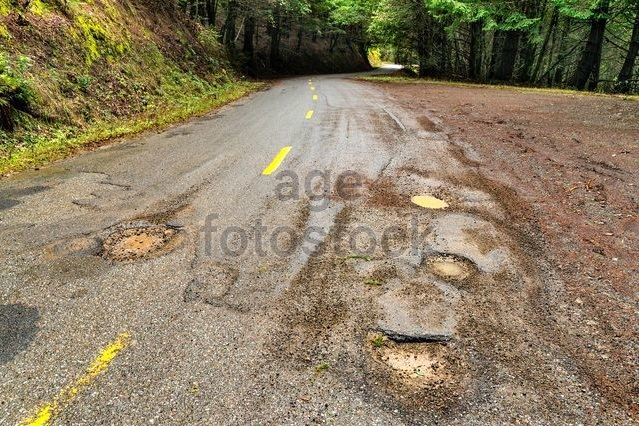pothole: (363, 323, 460, 379), (109, 214, 187, 266), (425, 251, 482, 286), (395, 188, 454, 212)
